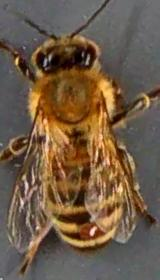varroa_mite: (73, 210, 112, 245)
